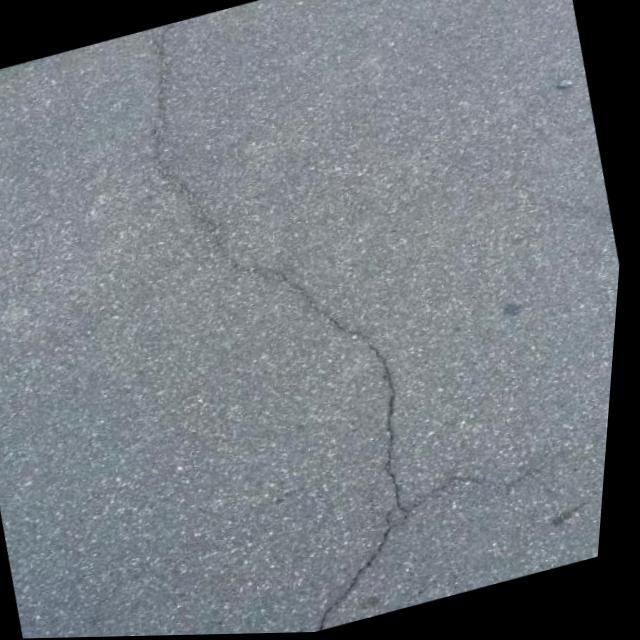Crack: (87, 0, 491, 638)
